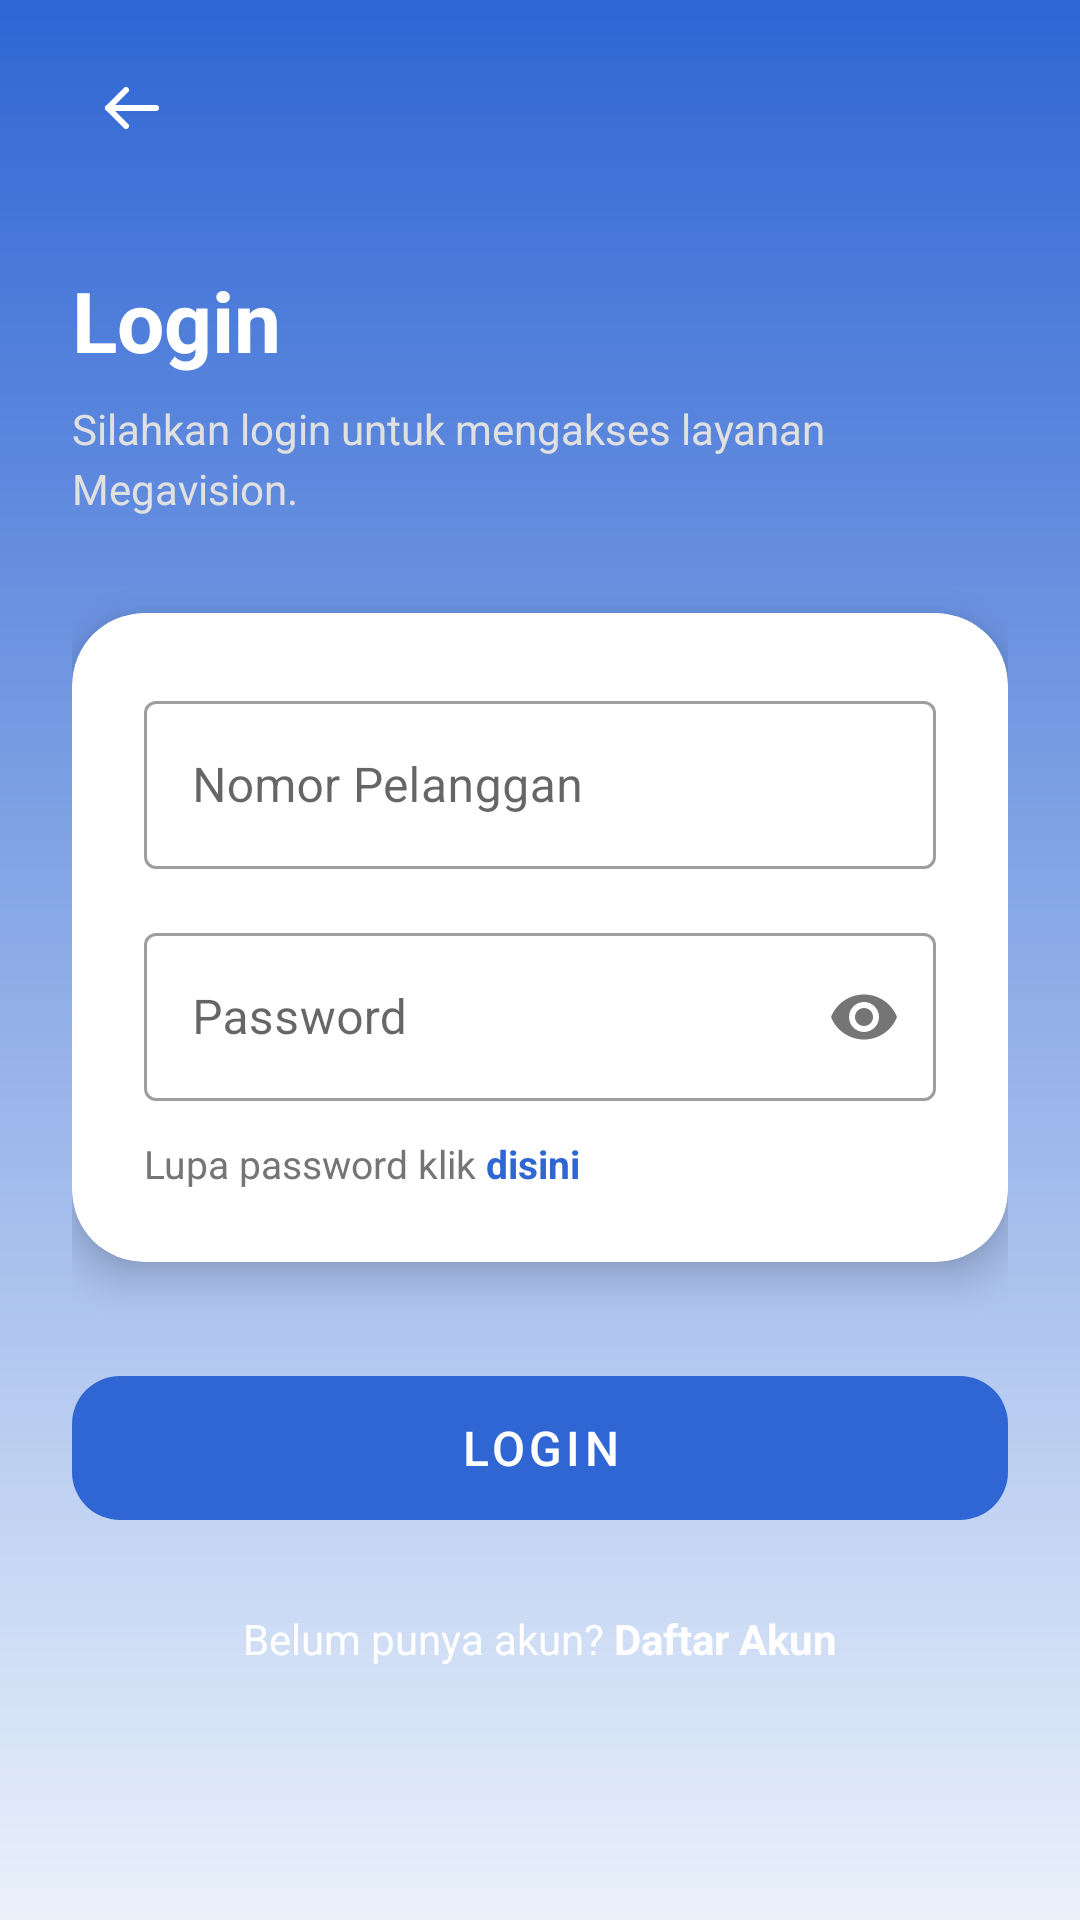

Where icons sit on this 1080w x 1920h app screen, as (x1, y1, x2, y2):
Kembali: (105, 87, 159, 129)
